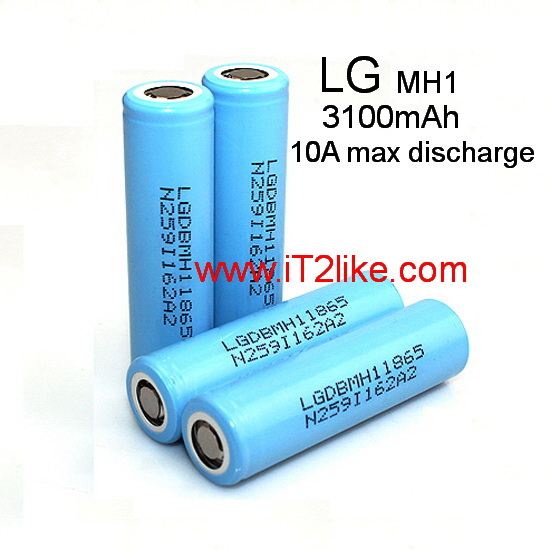Battery: (176, 296, 474, 493), (116, 71, 220, 364), (200, 59, 295, 330)
